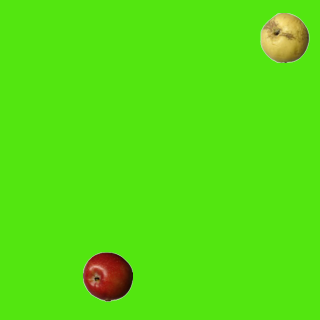Apple Braeburn: (82, 251, 132, 301)
Apple Golden 1: (259, 12, 309, 62)
